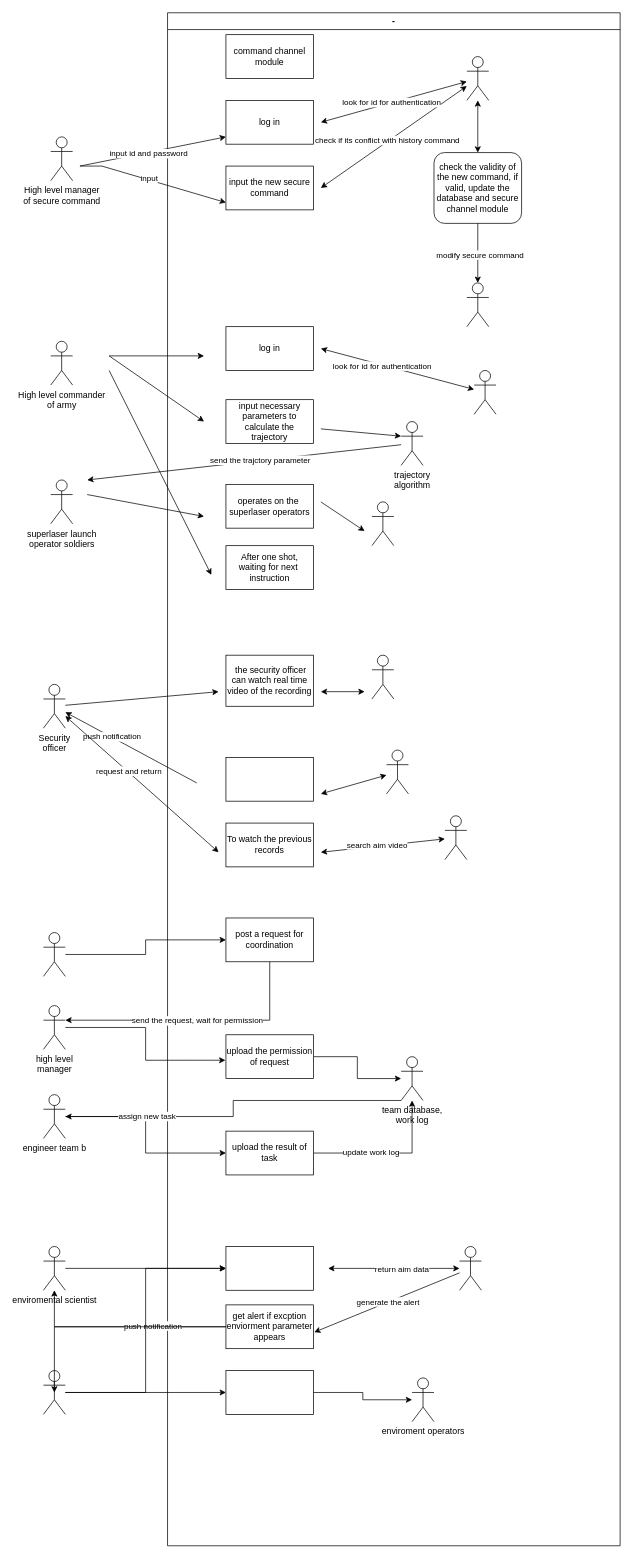
This 633x1559 diagram has some shape labels left out. The centre of each missing label's shape, as x and y in pixels:
"camera, sound receivers" goes at point (382, 676).
"Database of army commander" goes at point (484, 392).
"emergency handle program" goes at point (397, 771).
"enciroment engineer" goes at point (54, 1392).
"engineer team a" goes at point (54, 954).
"enviroment database" goes at point (470, 1268).
"get alert and notifications to the officer when emergency happens" goes at point (269, 779).
"look into the real time enviorment data" goes at point (269, 1268).
"perform operations on the envioroment operators" goes at point (269, 1392).
"secure channel modules" goes at point (477, 304).
"secure command database" goes at point (477, 78).
"Superlaser module" goes at point (382, 523).
"video database" goes at point (455, 837).
